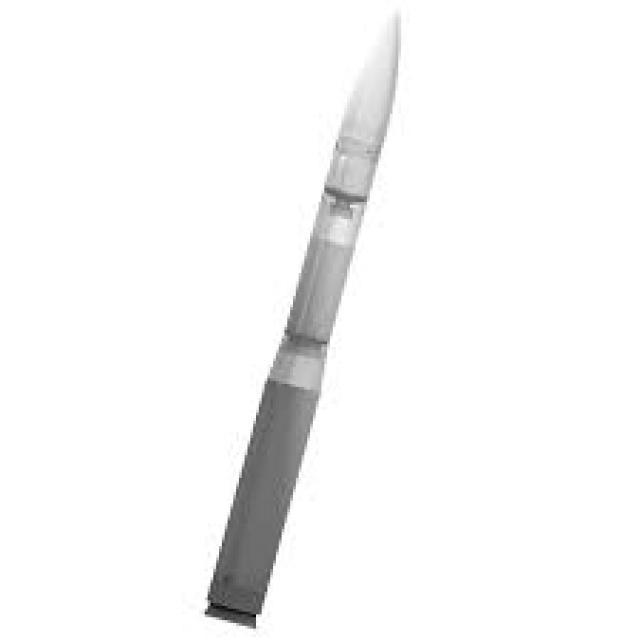Missile: (201, 0, 411, 640)
